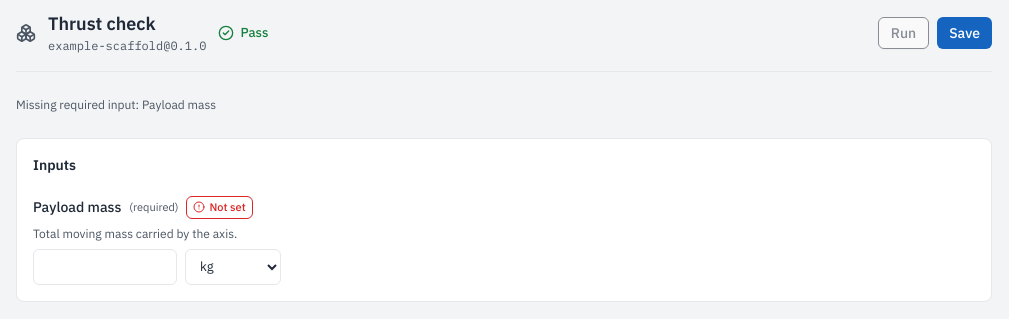
Test: ModuleInputWorkspace › shows Save's error message near the header on failure
Type "12" into the number field labelled "Payload mass" at {"x": 105, "y": 266}, box [33,248,177,284]
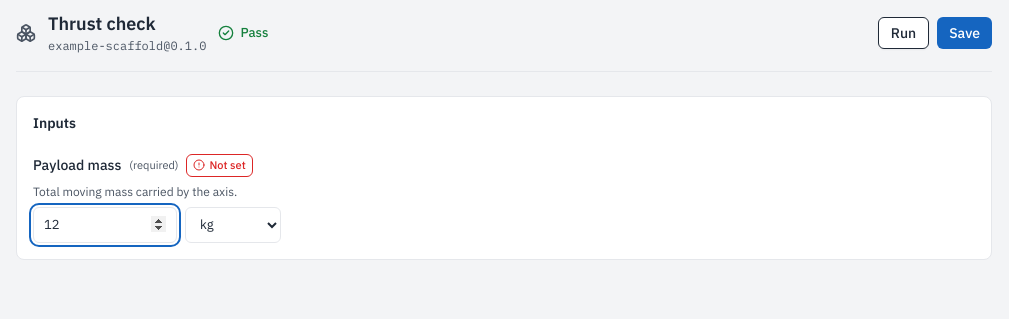
Click the button "Save" at {"x": 965, "y": 32}, box [937,16,992,48]
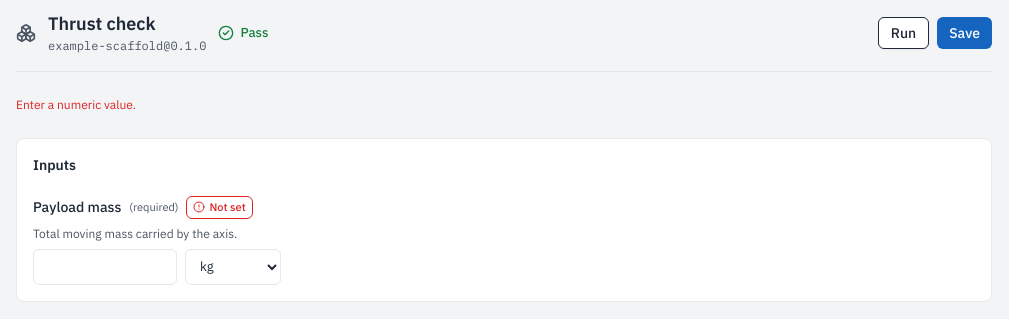
Expected: the message reads "Enter a numeric value.", [16,97,136,112]
